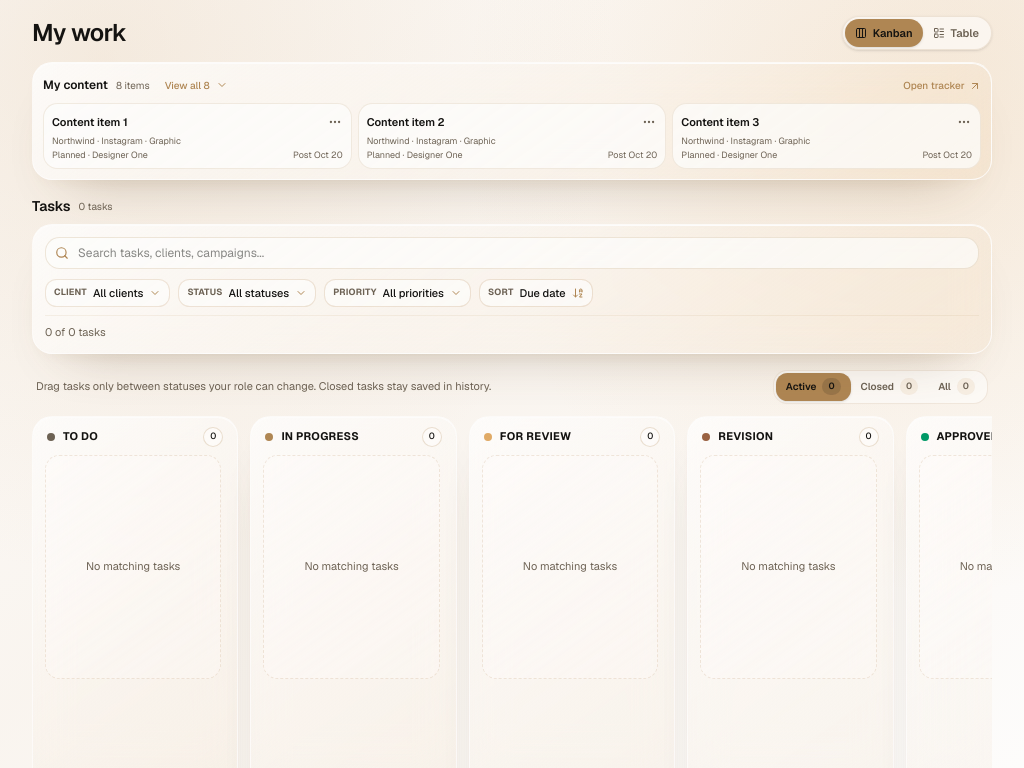
Scenario: My Work calendar content › previews three content cards and expands the remaining items on request
This screenshot has width=1024, height=768.
Expected: the link "Content item 1" is shown, x1=52 y1=114 x2=128 y2=130
Expected: the link "Content item 3" is shown, x1=681 y1=114 x2=759 y2=130
Click the button "View all 8" at (196, 85), box x1=158 y1=73 x2=235 y2=97
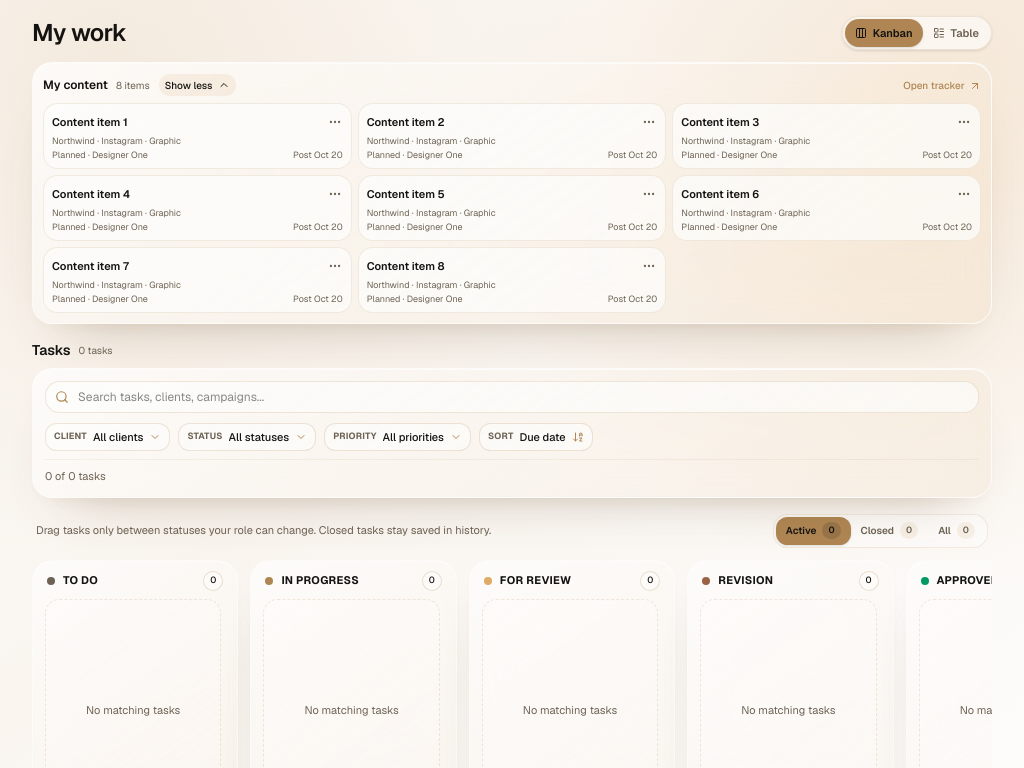
Result: the link "Content item 8" is shown at x1=367 y1=258 x2=445 y2=274
Click the button "Show less" at (198, 85), box x1=158 y1=73 x2=237 y2=97
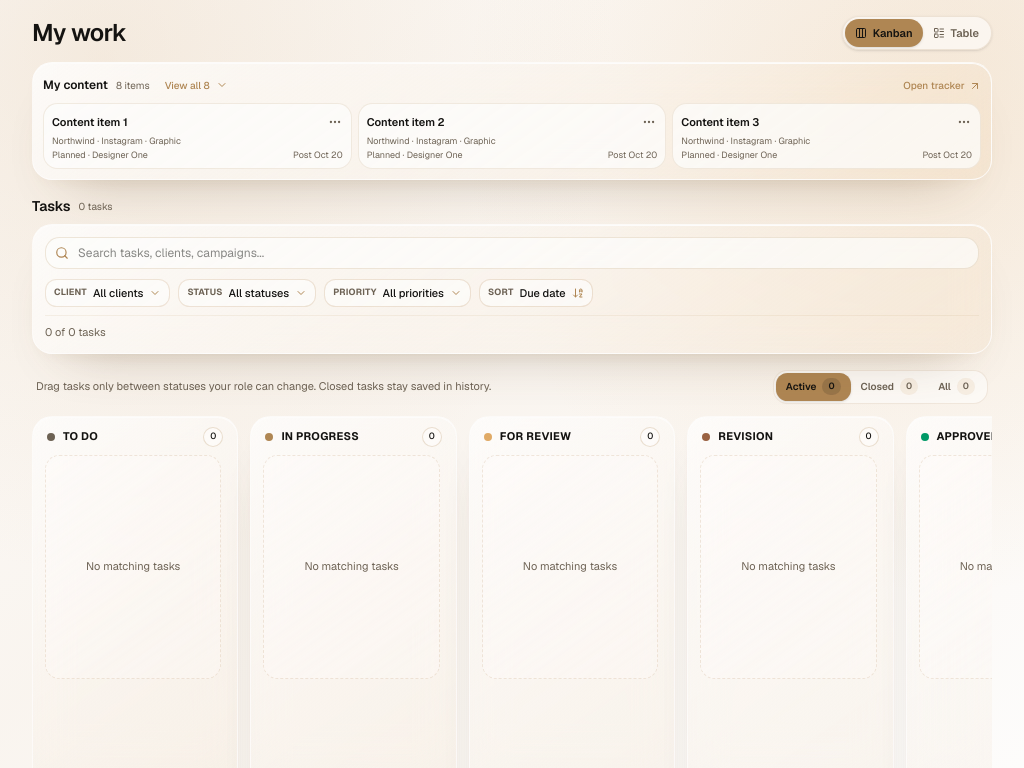
Result: the link "Content item 7" is gone
